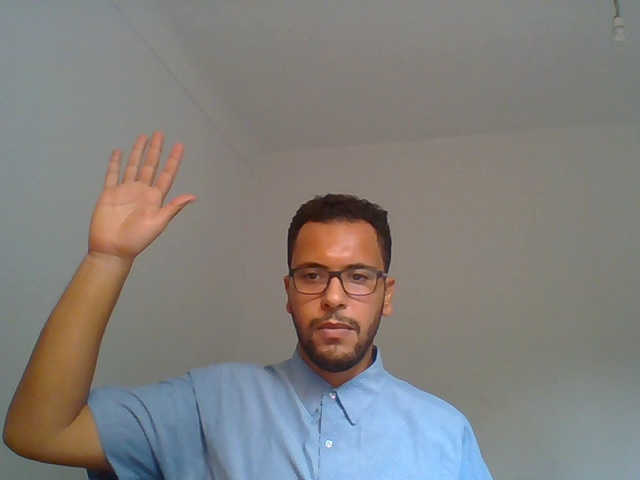hello: (30, 109, 200, 402)
